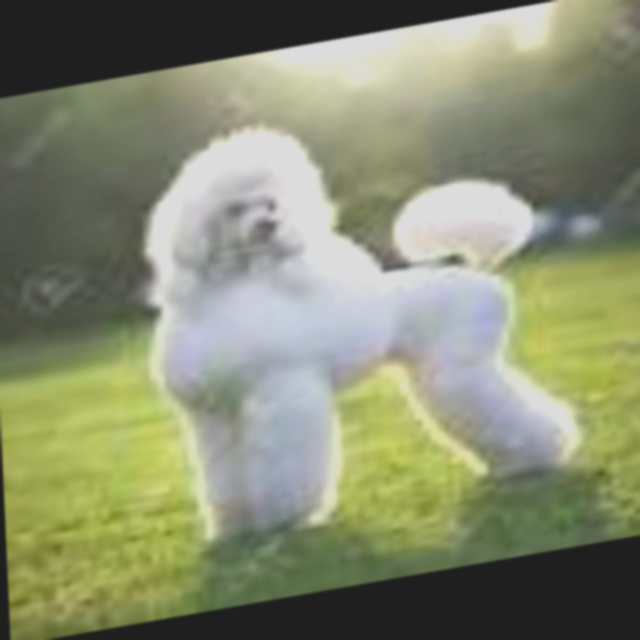dog: (93, 50, 614, 568)
